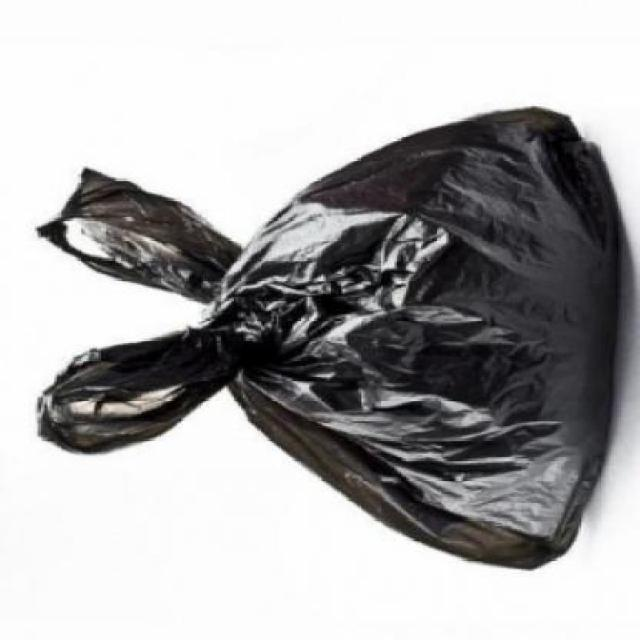Garbage_Bag: (31, 92, 624, 580)
